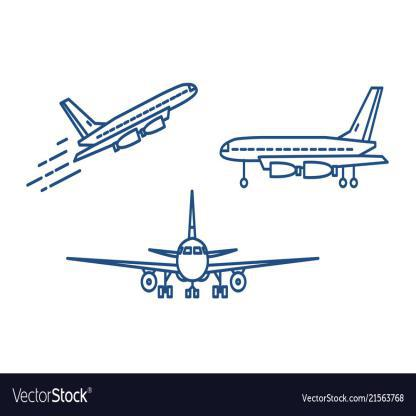CIV_Plane: (58, 187, 325, 326), (212, 76, 394, 194), (46, 66, 202, 172)
